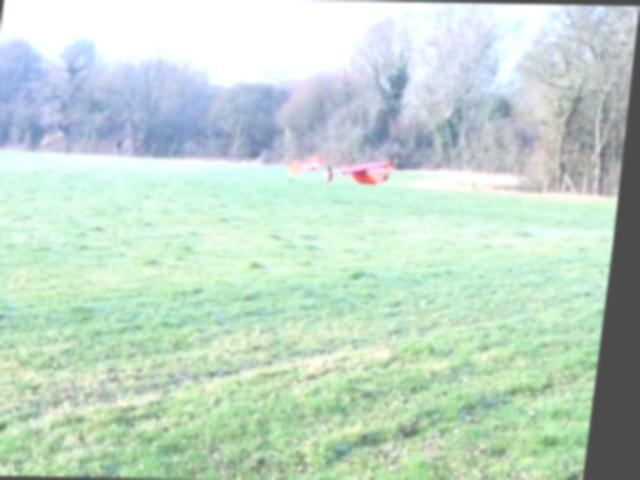uav: (292, 146, 401, 185)
